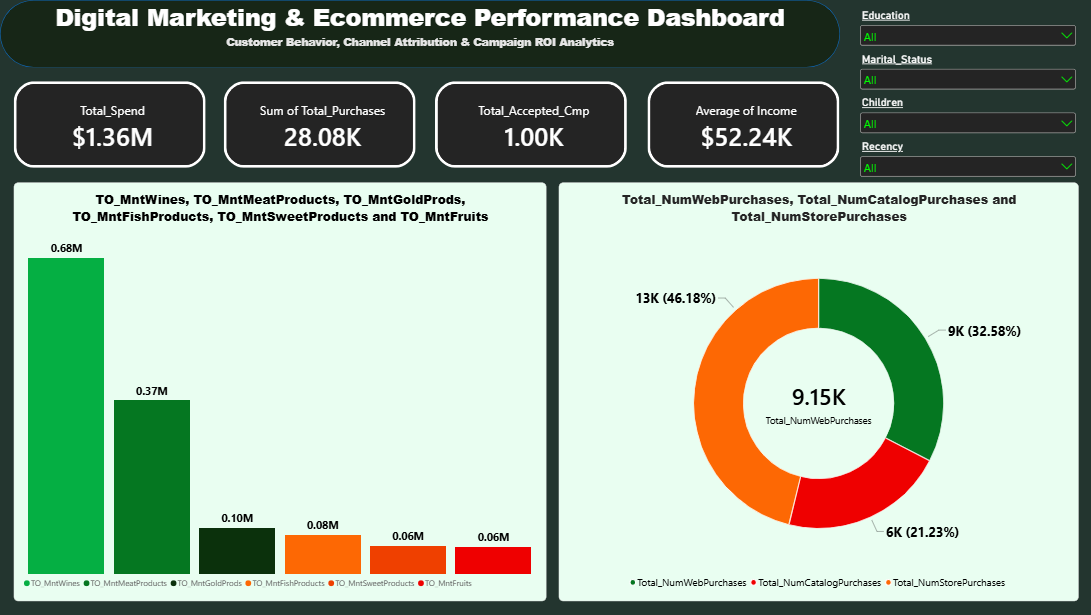

This screenshot's page, from the dashboard's own definition file:
{"tool":"powerbi","page":{"name":"dashboard_preview","canvas":[1920,1080],"ordinal":0},"visuals":[{"type":"cardVisual","fields":{"Data":["Sum(marketing_cleaned.Total_Spend)"]},"box":[24.7,142,337.6,152.3],"z":0},{"type":"cardVisual","fields":{"Data":["Sum(marketing_cleaned.Total_Purchases)"]},"box":[393.1,142,337.6,152.3],"z":1000},{"type":"cardVisual","fields":{"Data":["Sum(marketing_cleaned.Total_Accepted_Cmp)"]},"box":[763.6,142,337.6,152.3],"z":2000},{"type":"cardVisual","fields":{"Data":["Avg(marketing_cleaned.Income)"]},"box":[1136.2,142,337.6,152.3],"z":3000},{"type":"clusteredColumnChart","fields":{"Y":["Sum(marketing_cleaned.MntWines)","Sum(marketing_cleaned.MntMeatProducts)","Sum(marketing_cleaned.MntGoldProds)","Sum(marketing_cleaned.MntFishProducts)","Sum(marketing_cleaned.MntSweetProducts)","Sum(marketing_cleaned.MntFruits)"]},"box":[24.1,320.4,935,735.3],"z":3001},{"type":"donutChart","fields":{"Y":["Sum(marketing_cleaned.NumWebPurchases)","Sum(marketing_cleaned.NumCatalogPurchases)","Sum(marketing_cleaned.NumStorePurchases)"]},"box":[981.1,320.4,913,735.3],"z":3002},{"type":"shape","box":[0,0,1474.9,118.5],"z":3003},{"type":"textbox","box":[0,59.3,1474.9,59.3],"z":3004},{"type":"slicer","fields":{"Values":["marketing_cleaned.Education"]},"box":[1505.6,15.4,388.5,151.4],"z":3005},{"type":"slicer","fields":{"Values":["marketing_cleaned.Marital_Status"]},"box":[1505.6,92.2,388.5,151.4],"z":3006},{"type":"slicer","fields":{"Values":["marketing_cleaned.Children"]},"box":[1505.6,169,388.5,151.4],"z":3007},{"type":"slicer","fields":{"Values":["marketing_cleaned.Recency"]},"box":[1505.6,245.8,388.5,151.4],"z":3008}]}

Visuals, with their boxes in screenshot pixels (x1, y1, x2, y2), scaled from the page's 1920x1080 canvas onto the 1091x615 screenshot:
cardVisual - Sum(marketing_cleaned.Total_Spend): crop(14, 81, 206, 168)
cardVisual - Sum(marketing_cleaned.Total_Purchases): crop(223, 81, 415, 168)
cardVisual - Sum(marketing_cleaned.Total_Accepted_Cmp): crop(434, 81, 626, 168)
cardVisual - Avg(marketing_cleaned.Income): crop(646, 81, 837, 168)
clusteredColumnChart - Sum(marketing_cleaned.MntWines) x Sum(marketing_cleaned.MntMeatProducts): crop(14, 182, 545, 601)
donutChart - Sum(marketing_cleaned.NumWebPurchases) x Sum(marketing_cleaned.NumCatalogPurchases): crop(557, 182, 1076, 601)
shape: crop(0, 0, 838, 67)
textbox: crop(0, 34, 838, 68)
slicer - marketing_cleaned.Education: crop(856, 9, 1076, 95)
slicer - marketing_cleaned.Marital_Status: crop(856, 53, 1076, 139)
slicer - marketing_cleaned.Children: crop(856, 96, 1076, 182)
slicer - marketing_cleaned.Recency: crop(856, 140, 1076, 226)
